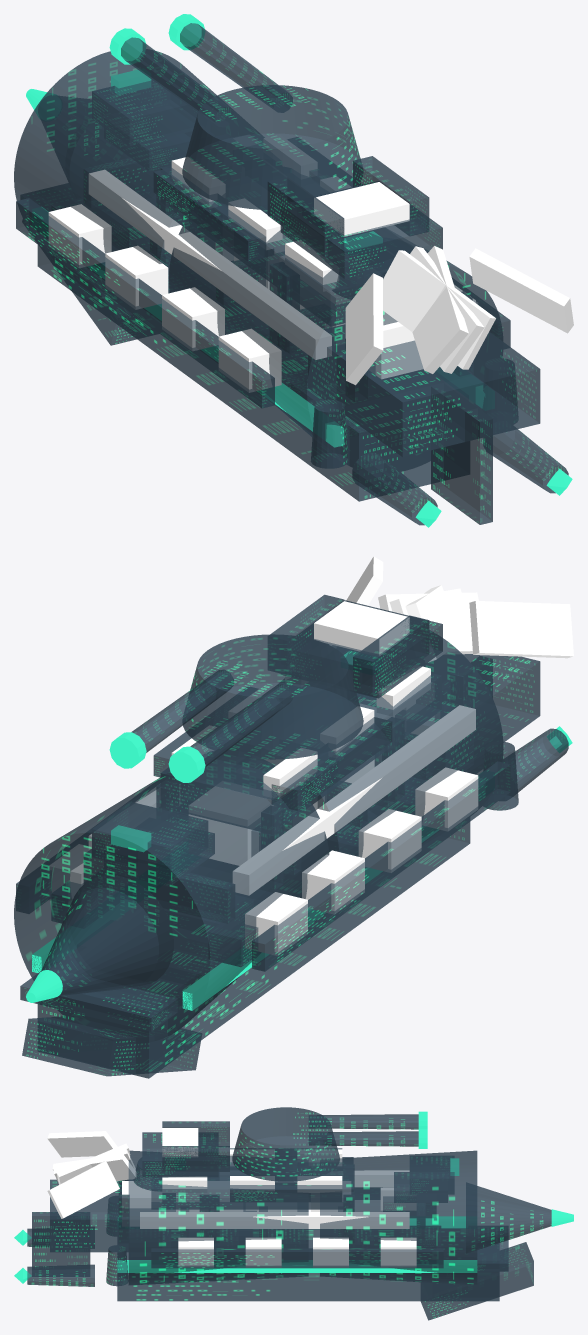
Rendered from gallion.glb.
3 renders of one model, top to bottom at view 1: azimuth 30°, elevation 25°; view 2: azimuth 150°, elevation 25°; view 3: azimuth 270°, elevation 25°, orthographic. The views are drawn at different scales.
Parts seen in each view (by area): view 1: guerrier; view 2: guerrier; view 3: guerrier.
Part boxes in pixels (x1,y1,x2,y2): guerrier: (14,14,573,527); guerrier: (14,556,573,1078); guerrier: (14,1107,573,1320).
Size of the model in its own units: 0.76 by 0.9177 by 2.49.
